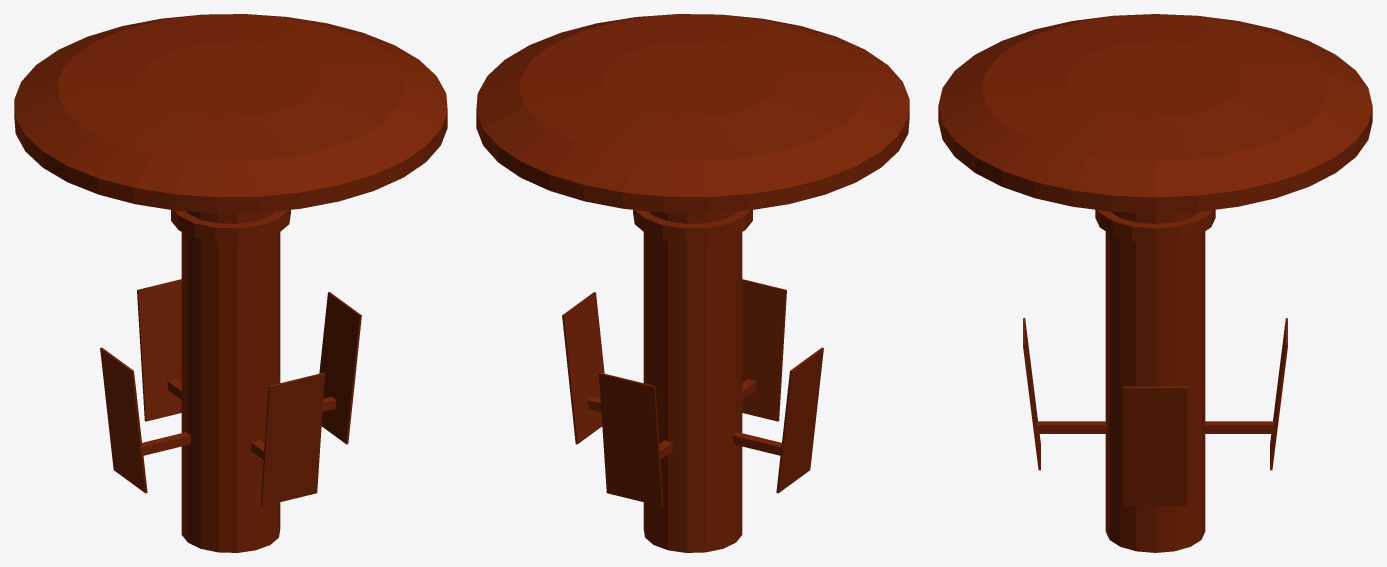
File: orn_6.obj
3 renders of one model, left to right at view 1: azimuth 30°, elevation 25°; view 2: azimuth 150°, elevation 25°; view 3: azimuth 270°, elevation 25°, orthographic.
Parts seen in each view (by area): view 1: body, atn; view 2: body, atn; view 3: body, atn.
Boxes of the visible parts, x1,y1,x2,y2 form: body: [14, 14, 447, 552]; atn: [100, 279, 361, 506]; body: [476, 14, 909, 552]; atn: [562, 279, 823, 506]; body: [938, 14, 1372, 552]; atn: [1023, 318, 1287, 506].
Bounding box in the file's own units: 1.58 × 1.82 × 1.58.
